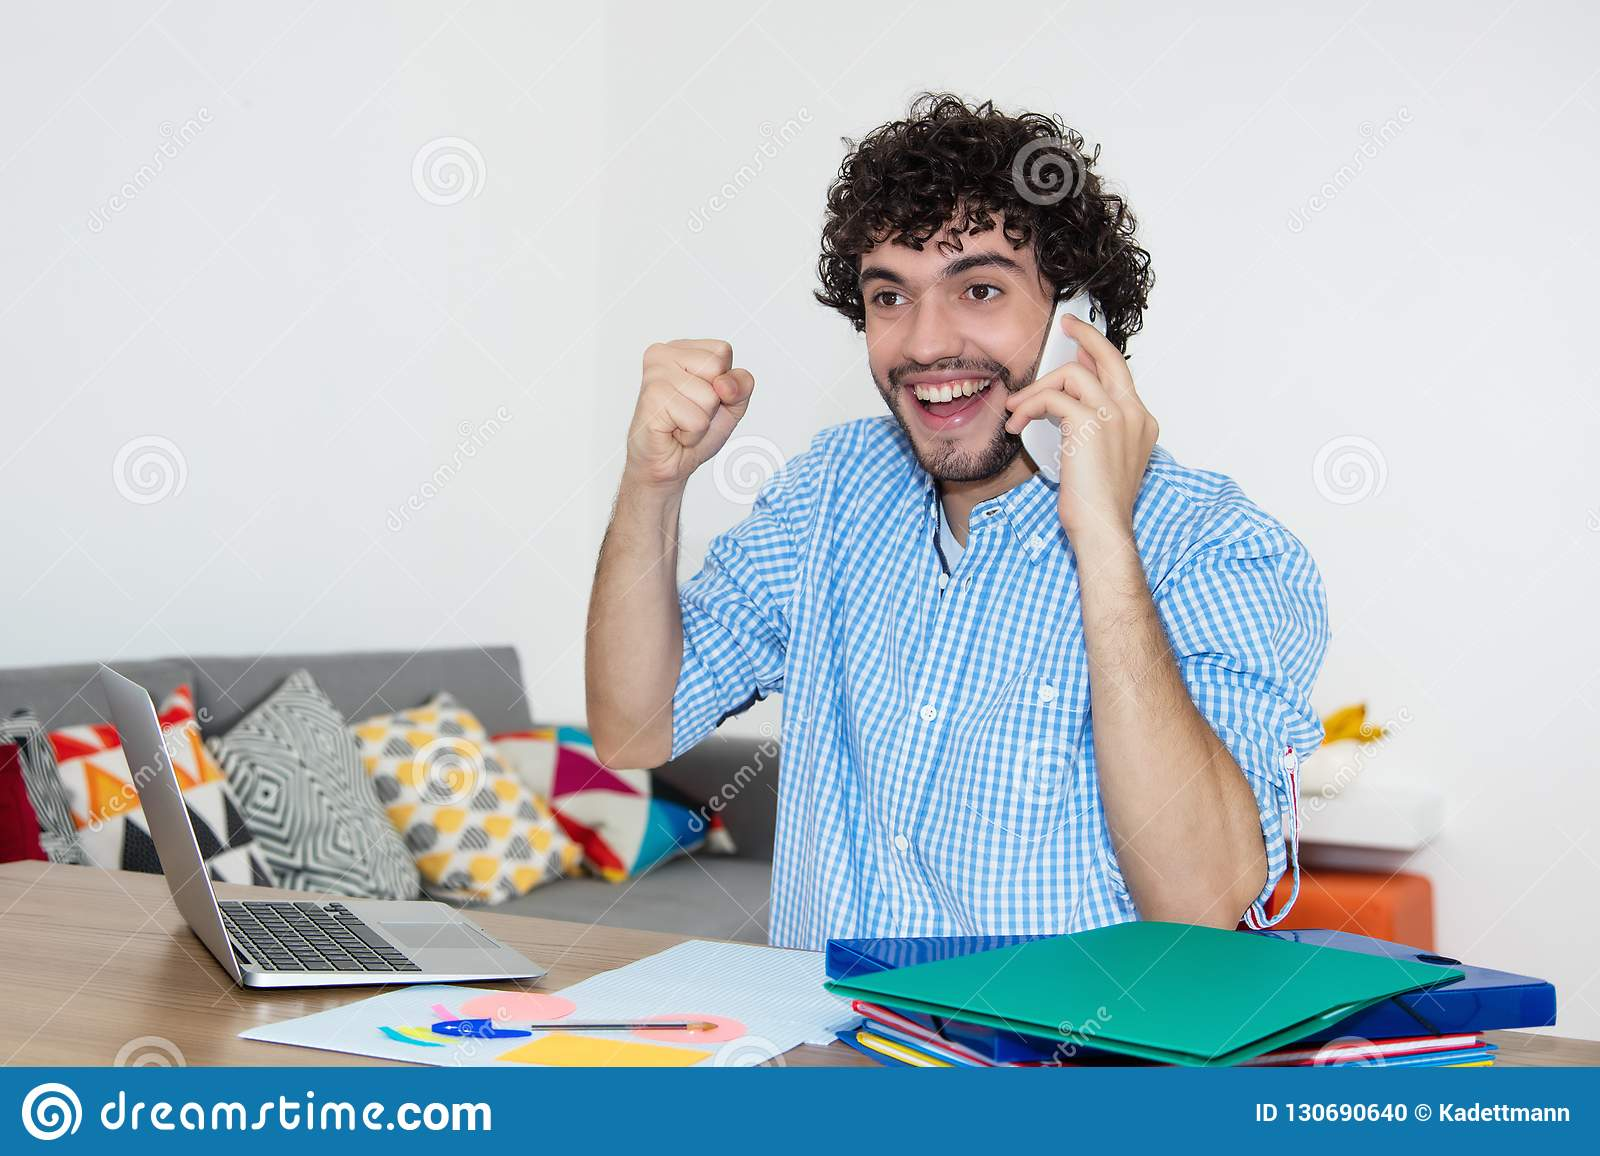phone: (1021, 268, 1116, 484)
talk: (858, 248, 1161, 534)
